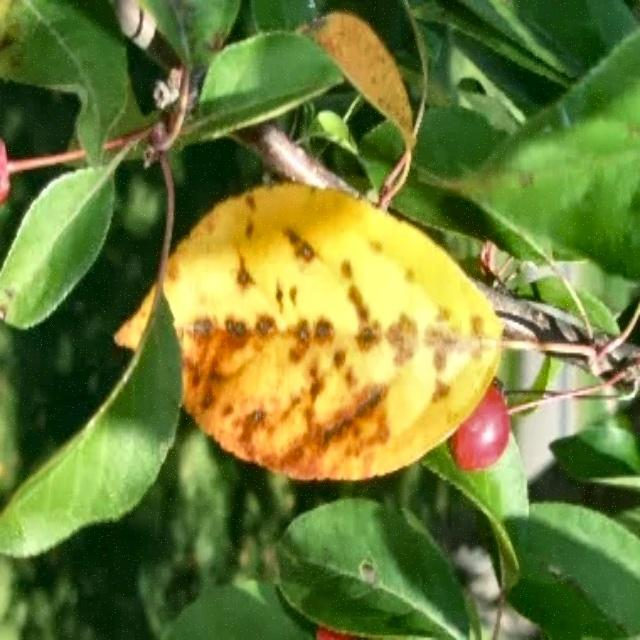shot_hole: (153, 152, 522, 496), (105, 0, 250, 124)
